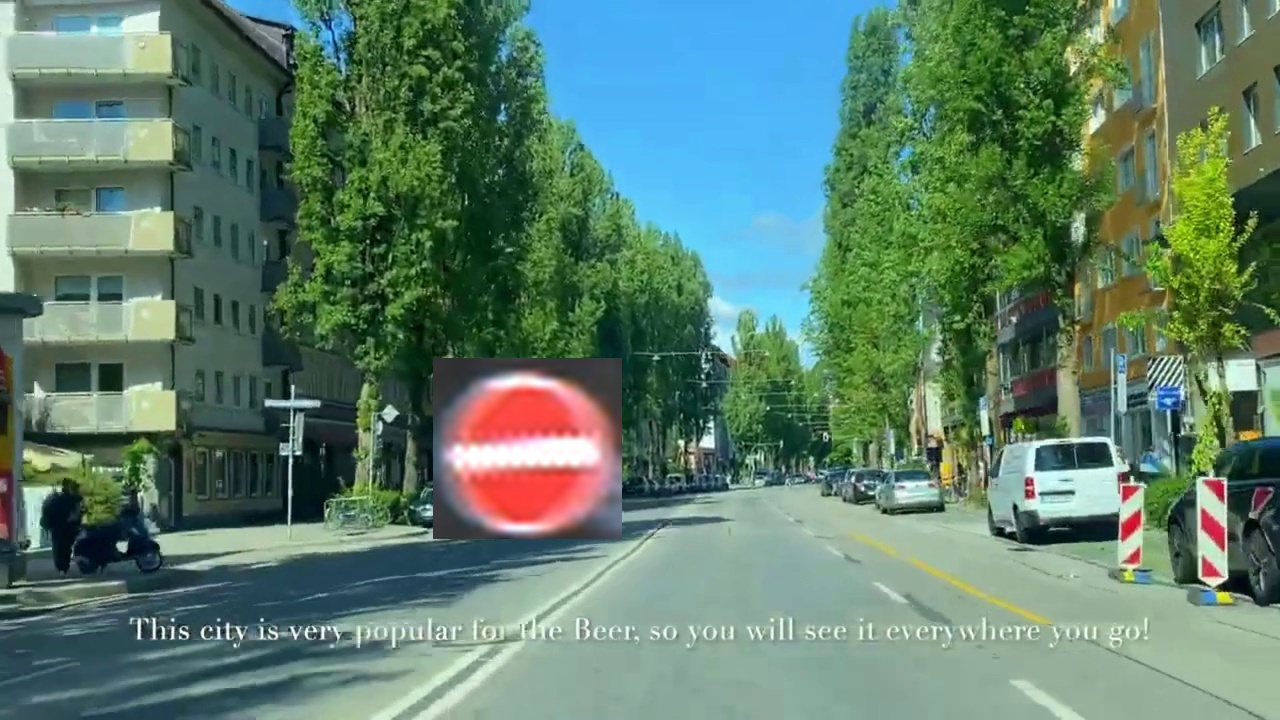No entry: (433, 358, 622, 539)
